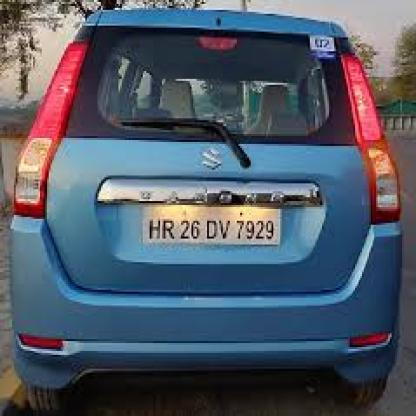car back: (15, 8, 400, 412)
number plate: (146, 212, 278, 240)
